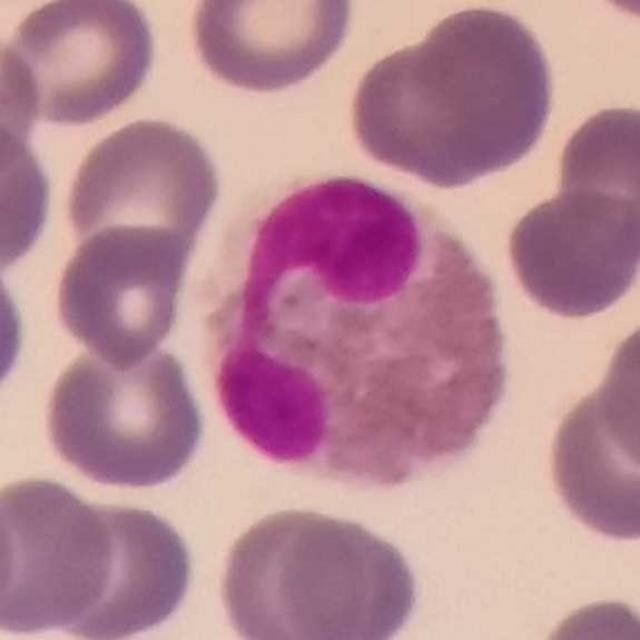eosino: (202, 171, 510, 483)
